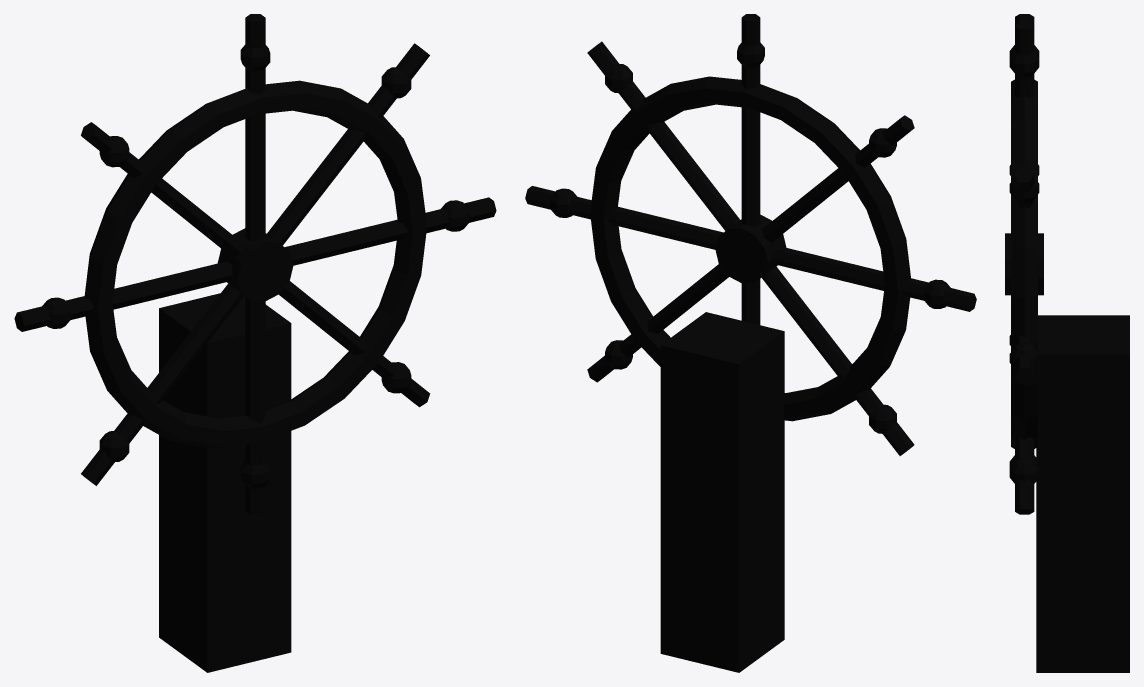
The model's file is upgrade_ship_s_wheel_ash_rudder.unity-fbx.fbx.
3 renders of one model, left to right at view 1: azimuth 30°, elevation 25°; view 2: azimuth 150°, elevation 25°; view 3: azimuth 270°, elevation 25°, orthographic. The views are drawn at different scales.
Parts seen in each view (by area): view 1: upgrade_ship_s_wheel_ash_rudder_mesh; view 2: upgrade_ship_s_wheel_ash_rudder_mesh; view 3: upgrade_ship_s_wheel_ash_rudder_mesh.
Boxes of the visible parts, x1,y1,x2,y2 form: upgrade_ship_s_wheel_ash_rudder_mesh: (14,14,496,672); upgrade_ship_s_wheel_ash_rudder_mesh: (525,14,976,672); upgrade_ship_s_wheel_ash_rudder_mesh: (1005,14,1129,672).
Size of the model in its own units: 1.35 by 1.78 by 0.32.
Materials: 1 (1 with a texture image).
